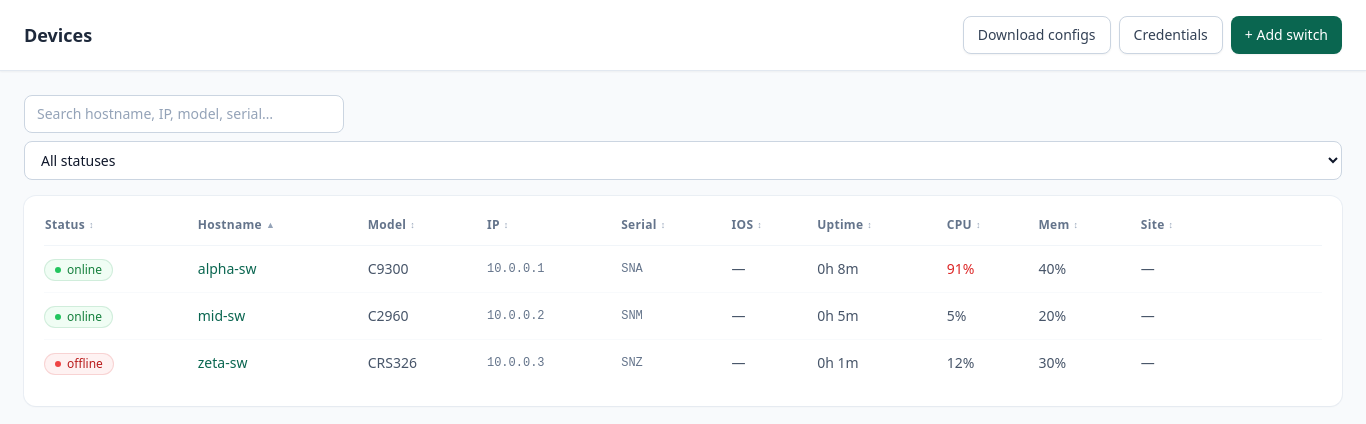
Test: Devices list — sort & filter › shows a "no match" row when the filter excludes everything
Type "nonexistent-device" into the field with placeholder "Search hostname, IP, model, serial…" at (184, 114), box top-left (24, 95), bottom-right (344, 133)
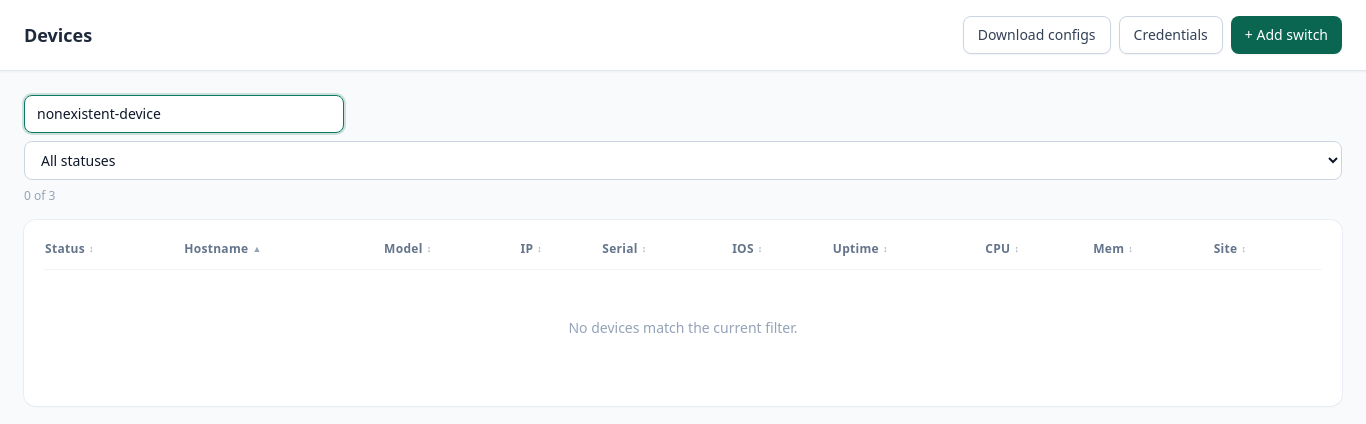
expect the text "No devices match the current filter." is shown: met, box top-left (44, 270), bottom-right (1322, 386)
